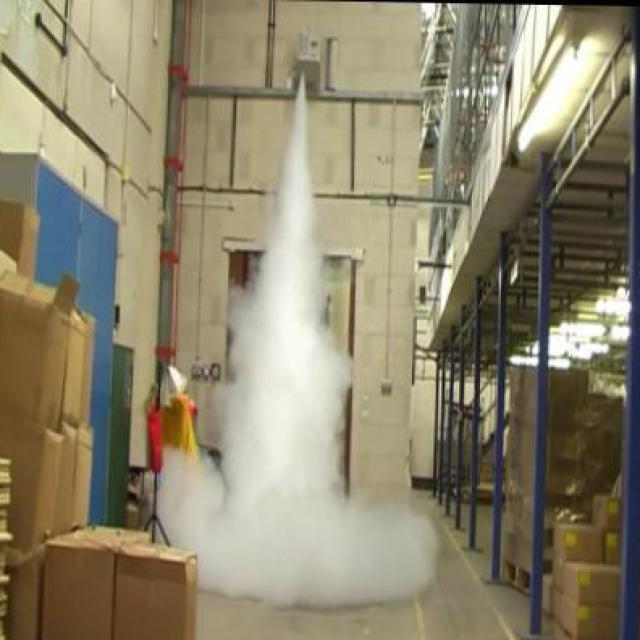fire: (208, 104, 352, 491), (143, 444, 439, 612)
